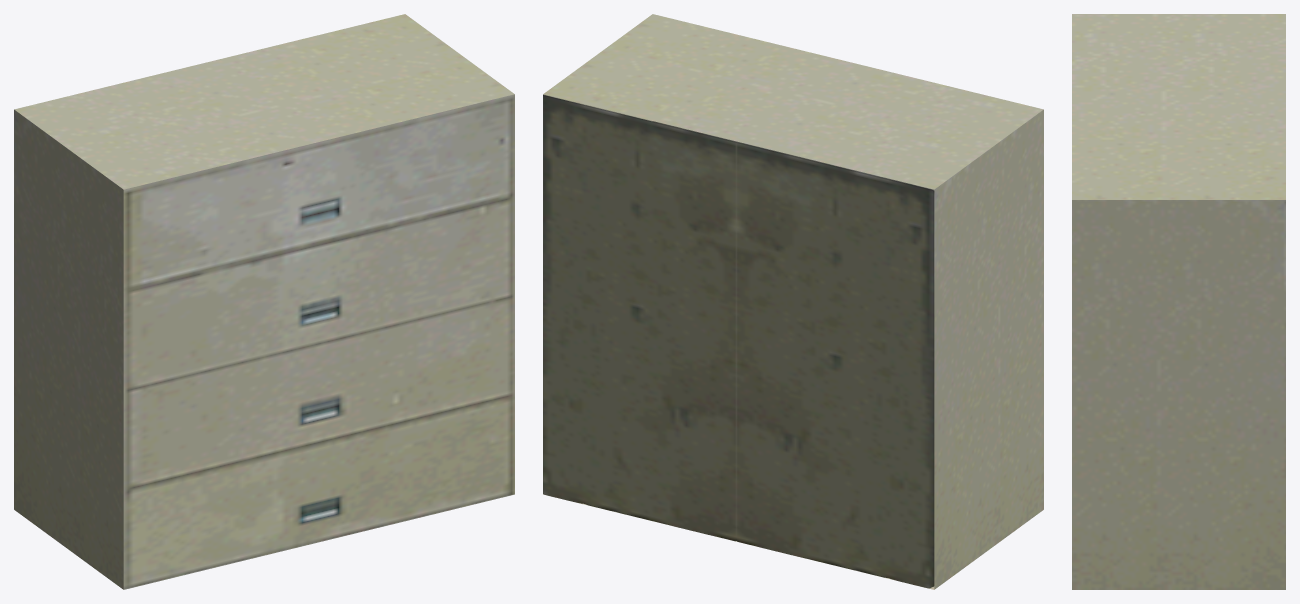
The model's file is file_cabinet_largest.obj.
3 renders of one model, left to right at view 1: azimuth 30°, elevation 25°; view 2: azimuth 150°, elevation 25°; view 3: azimuth 270°, elevation 25°, orthographic. The views are drawn at different scales.
Parts seen in each view (by area): view 1: file_cabinet_largest; view 2: file_cabinet_largest; view 3: file_cabinet_largest.
Part boxes in pixels (x1,y1,x2,y2): file_cabinet_largest: (14,14,514,589); file_cabinet_largest: (543,14,1043,589); file_cabinet_largest: (1072,14,1285,589).
Size of the model in its own units: 1.44 by 1.41 by 0.6994.
